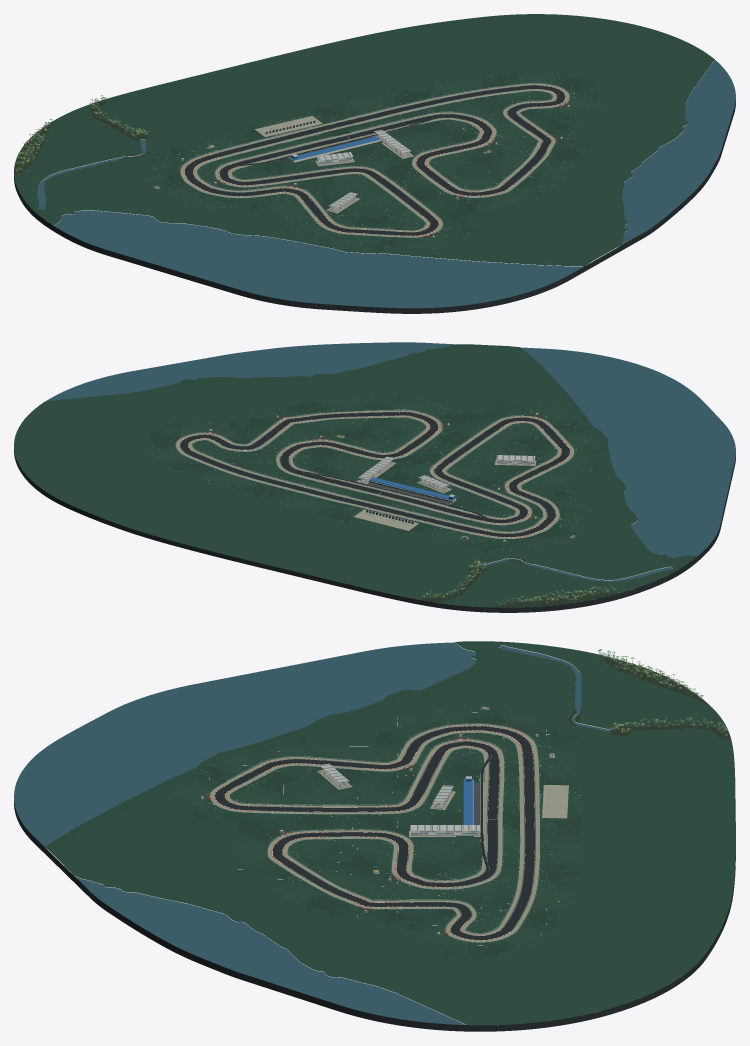
Rendered from Jacarepagua.glb.
The picture shows the model from 3 angles, top to bottom: view 1: azimuth 30°, elevation 25°; view 2: azimuth 150°, elevation 25°; view 3: azimuth 270°, elevation 25°; orthographic projection. The views are drawn at different scales.
Parts seen in each view (by area): view 1: terrain/ground, water-2/water, terrain-ground-finish-1, terrain-ground-finish-3, terrain-ground-finish-2, road/asphalt, runoff/gravel, terrain-ground-finish-0, terrain-ground-finish-4, terrain-skirt/dark, barriers/steel, shoulder/runoff (+6 smaller); view 2: terrain/ground, water-2/water, terrain-ground-finish-1, terrain-ground-finish-3, terrain-ground-finish-2, road/asphalt, runoff/gravel, terrain-ground-finish-0, terrain-ground-finish-4, terrain-skirt/dark, barriers/steel, shoulder/runoff (+7 smaller); view 3: terrain/ground, water-2/water, terrain-ground-finish-1, terrain-ground-finish-3, terrain-ground-finish-2, road/asphalt, runoff/gravel, terrain-ground-finish-0, terrain-ground-finish-4, terrain-skirt/dark, shoulder/runoff, barriers/steel (+7 smaller).
Part boxes in pixels (bbox=[...]): terrain/ground: bbox=[14, 14, 714, 266]; water-2/water: bbox=[54, 60, 735, 308]; terrain-ground-finish-1: bbox=[158, 71, 602, 250]; terrain-ground-finish-3: bbox=[151, 70, 598, 249]; terrain-ground-finish-2: bbox=[157, 71, 602, 248]; road/asphalt: bbox=[185, 85, 565, 235]; runoff/gravel: bbox=[180, 83, 569, 237]; terrain-ground-finish-0: bbox=[164, 73, 608, 252]; terrain-ground-finish-4: bbox=[144, 71, 587, 249]; terrain-skirt/dark: bbox=[14, 100, 735, 313]; barriers/steel: bbox=[179, 83, 569, 237]; shoulder/runoff: bbox=[184, 85, 565, 236]; terrain/ground: bbox=[14, 344, 697, 607]; water-2/water: bbox=[46, 342, 735, 557]; terrain-ground-finish-1: bbox=[147, 396, 608, 551]; terrain-ground-finish-3: bbox=[145, 394, 600, 547]; terrain-ground-finish-2: bbox=[147, 399, 607, 548]; road/asphalt: bbox=[180, 412, 569, 536]; runoff/gravel: bbox=[175, 410, 574, 538]; terrain-ground-finish-0: bbox=[149, 395, 607, 554]; terrain-ground-finish-4: bbox=[149, 397, 597, 548]; terrain-skirt/dark: bbox=[14, 449, 735, 612]; barriers/steel: bbox=[175, 409, 574, 538]; shoulder/runoff: bbox=[179, 411, 570, 537]; terrain/ground: bbox=[45, 641, 735, 1025]; water-2/water: bbox=[14, 642, 476, 1024]; terrain-ground-finish-1: bbox=[192, 709, 580, 958]; terrain-ground-finish-3: bbox=[169, 707, 580, 949]; terrain-ground-finish-2: bbox=[169, 707, 580, 958]; road/asphalt: bbox=[215, 726, 534, 939]; runoff/gravel: bbox=[210, 724, 539, 942]; terrain-ground-finish-0: bbox=[192, 714, 580, 958]; terrain-ground-finish-4: bbox=[170, 707, 580, 946]; terrain-skirt/dark: bbox=[14, 800, 735, 1031]; shoulder/runoff: bbox=[214, 725, 535, 940]; barriers/steel: bbox=[213, 723, 540, 942].
Bounding box in the file's own units: 1984 × 36.18 × 1578.
